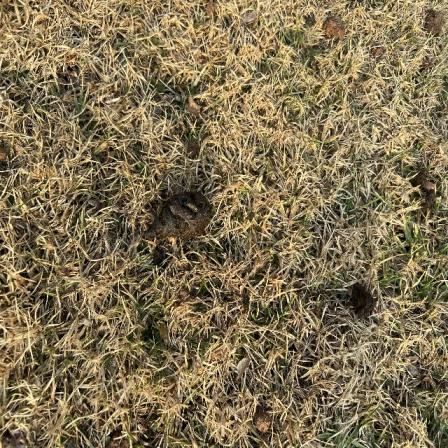dog-poop: (140, 174, 230, 260), (351, 277, 384, 326)
